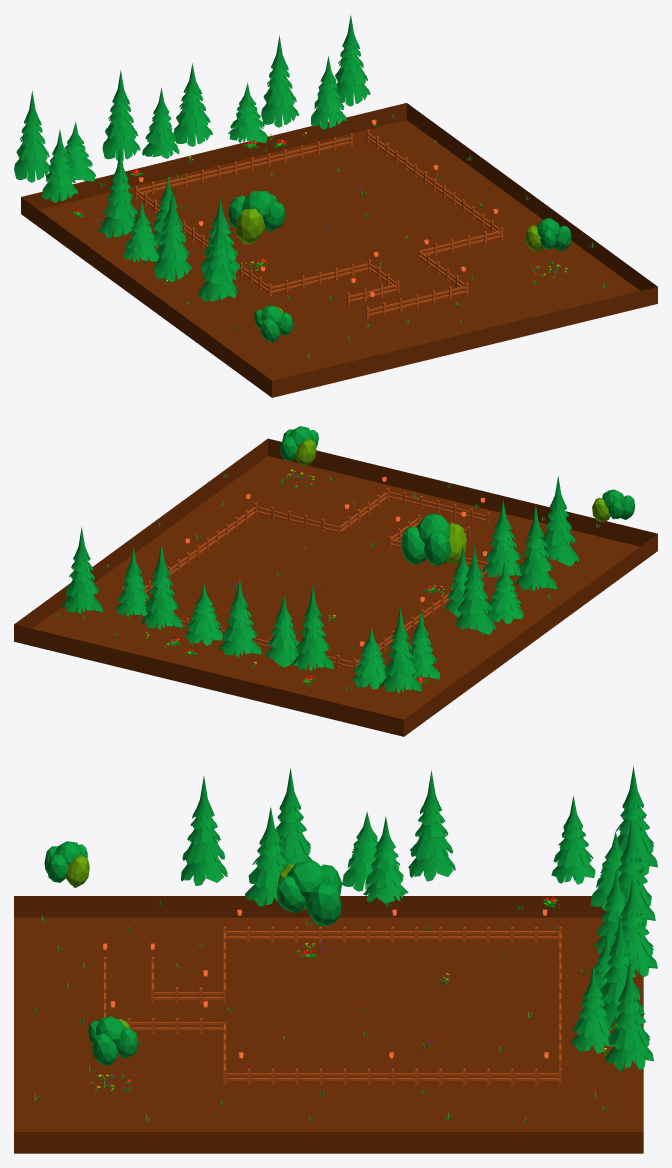
Rendered from world-no-physic-environment.glb.
The picture shows the model from 3 angles, top to bottom: view 1: azimuth 30°, elevation 25°; view 2: azimuth 150°, elevation 25°; view 3: azimuth 270°, elevation 25°; orthographic projection. The views are drawn at different scales.
Visible parts, largest first — view 1: Circle.012_Grass_0.001; view 2: Circle.012_Grass_0.001; view 3: Circle.012_Grass_0.001.
Boxes of the visible parts, <box> form: Circle.012_Grass_0.001: <box>14,14,657,397</box>; Circle.012_Grass_0.001: <box>14,426,657,736</box>; Circle.012_Grass_0.001: <box>14,766,657,1153</box>.
Size of the model in its own units: 18.1 by 5.45 by 20.29.
